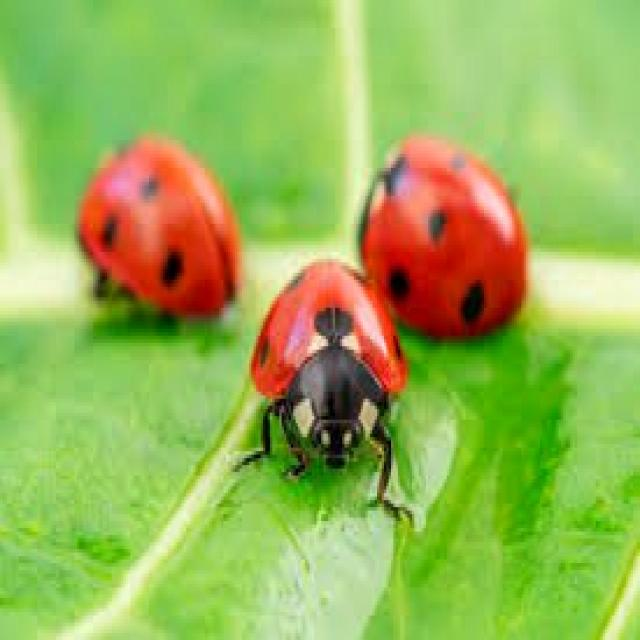ladybug: (240, 259, 407, 514), (358, 136, 526, 336), (77, 136, 240, 315)
